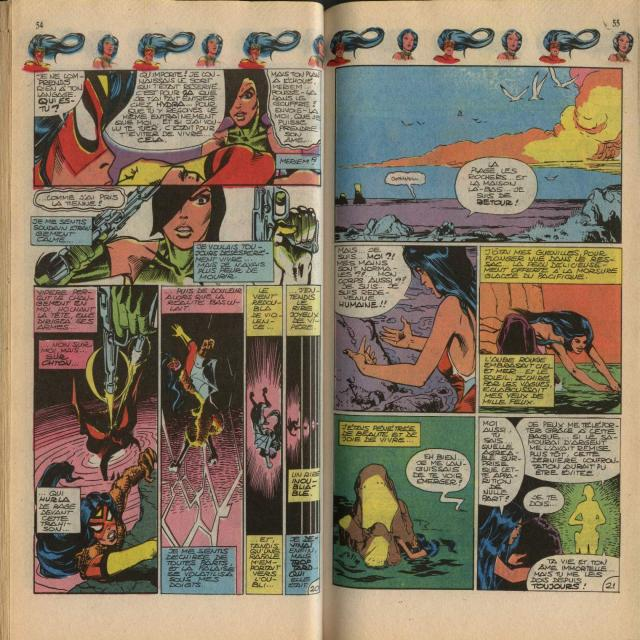comic_panel: (334, 66, 624, 244), (32, 284, 161, 595), (33, 68, 323, 190), (29, 183, 325, 284), (477, 413, 622, 599), (158, 283, 244, 596), (331, 414, 476, 592), (477, 244, 624, 416), (333, 244, 478, 415), (246, 283, 284, 596), (284, 283, 322, 595)
